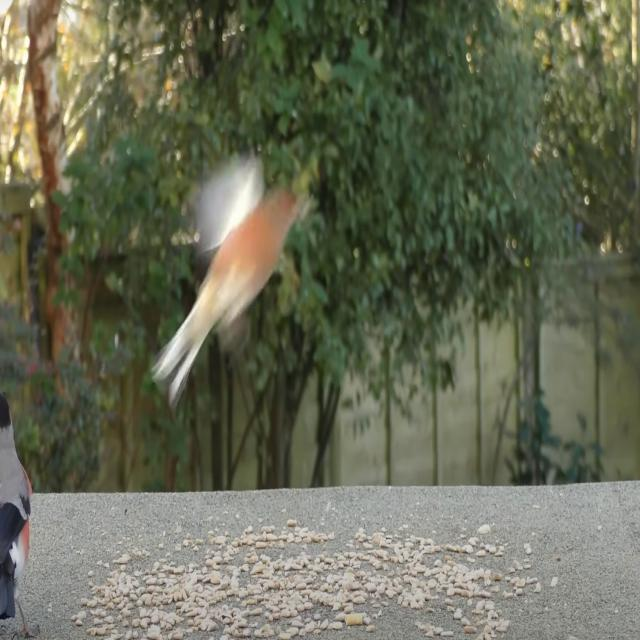bird: (150, 154, 312, 419), (0, 395, 33, 640)
